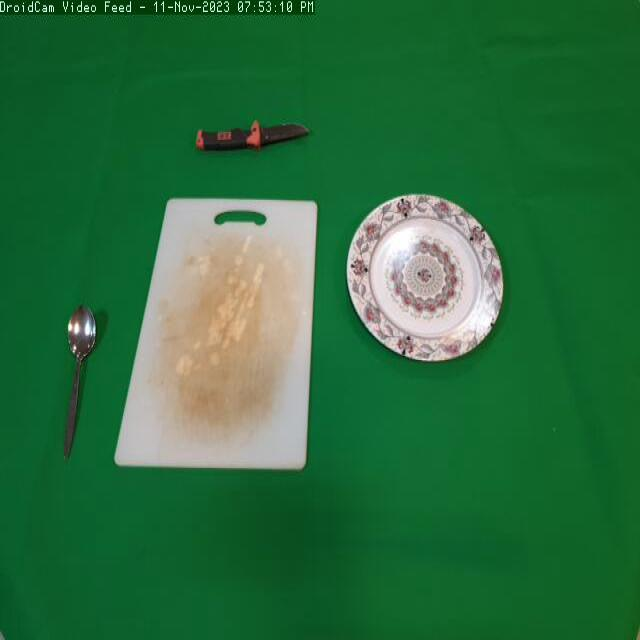cutting board: (116, 190, 332, 497)
knife: (188, 113, 314, 163)
plate: (344, 185, 512, 365)
spoon: (52, 293, 102, 468)
